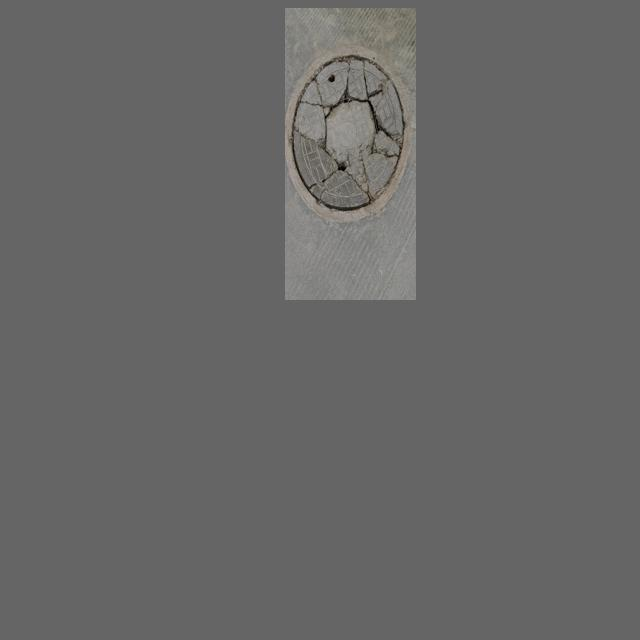broke: (288, 44, 410, 217)
